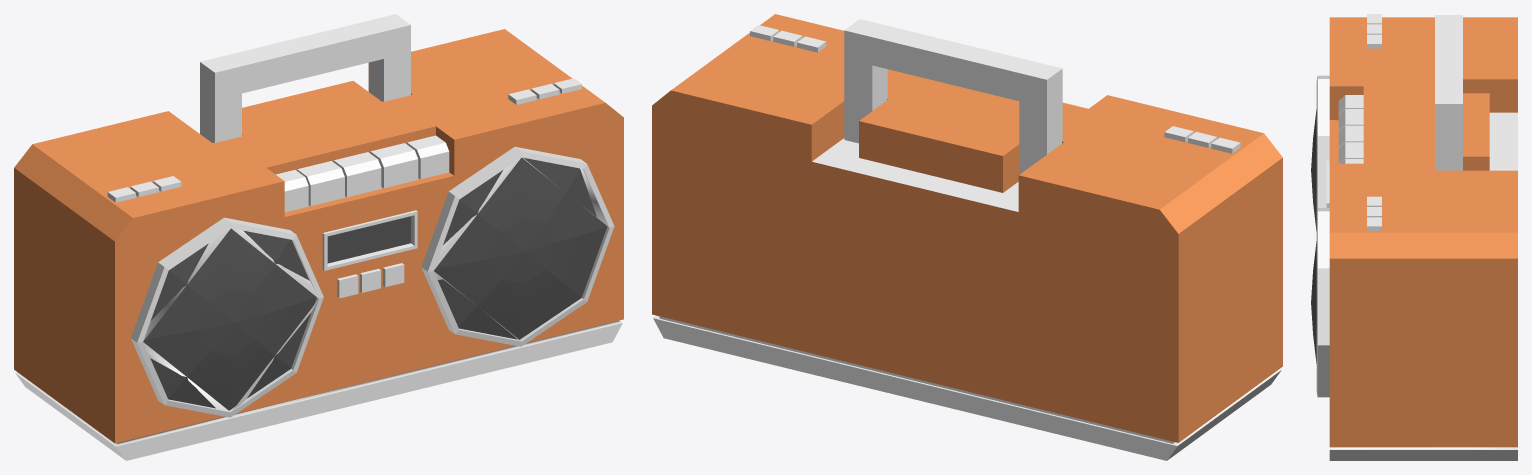
Rendered from item_boombox.glb.
The picture shows the model from 3 angles, left to right: view 1: azimuth 30°, elevation 25°; view 2: azimuth 150°, elevation 25°; view 3: azimuth 270°, elevation 25°; orthographic projection. The views are drawn at different scales.
Parts seen in each view (by area): view 1: default_submesh_0, default_submesh_1, default_submesh_2; view 2: default_submesh_0, default_submesh_1; view 3: default_submesh_0, default_submesh_1, default_submesh_2.
Boxes of the visible parts, x1=… form: default_submesh_0: x1=14, y1=29, x2=623, y2=443; default_submesh_1: x1=15, y1=14, x2=622, y2=460; default_submesh_2: x1=143, y1=157, x2=607, y2=410; default_submesh_0: x1=652, y1=14, x2=1282, y2=442; default_submesh_1: x1=653, y1=19, x2=1281, y2=460; default_submesh_0: x1=1329, y1=17, x2=1517, y2=447; default_submesh_1: x1=1316, y1=14, x2=1517, y2=460; default_submesh_2: x1=1311, y1=109, x2=1316, y2=363.
Size of the model in its own units: 0.4975 by 0.2909 by 0.1877.
